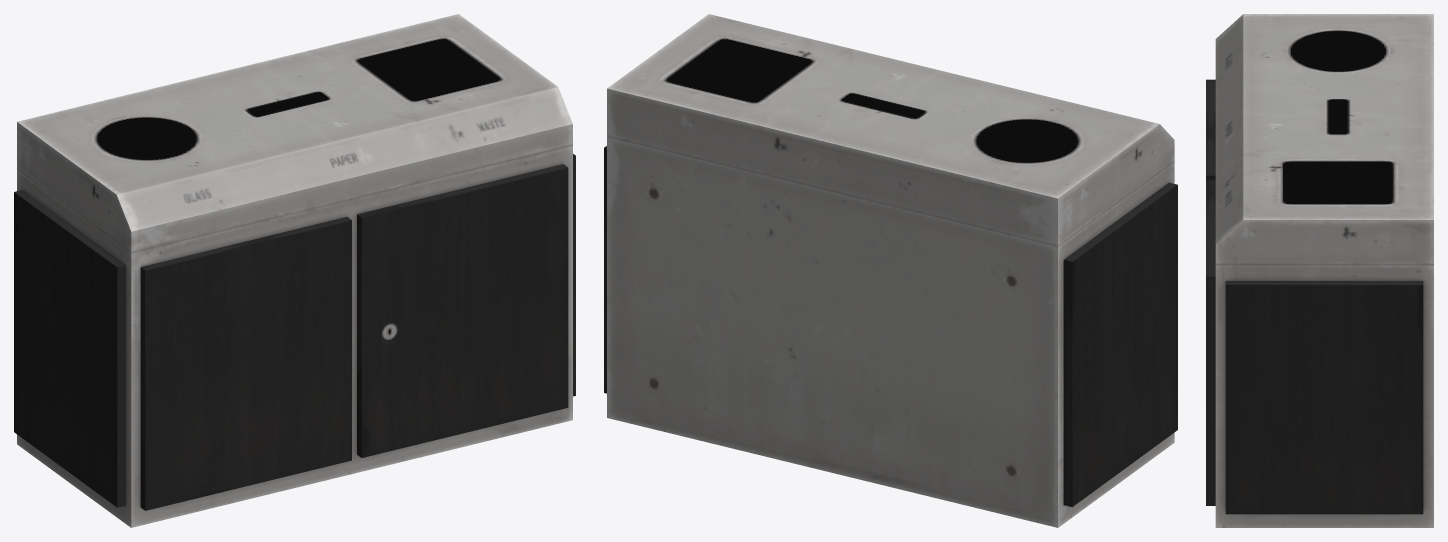
The model's file is SM_BigTrashCan.fbx.
3 renders of one model, left to right at view 1: azimuth 30°, elevation 25°; view 2: azimuth 150°, elevation 25°; view 3: azimuth 270°, elevation 25°, orthographic. The views are drawn at different scales.
Parts seen in each view (by area): view 1: SM_BigTrashCan_LOD0; view 2: SM_BigTrashCan_LOD0; view 3: SM_BigTrashCan_LOD0.
Boxes of the visible parts, <box> form: SM_BigTrashCan_LOD0: <box>14,14,575,527</box>; SM_BigTrashCan_LOD0: <box>604,14,1177,527</box>; SM_BigTrashCan_LOD0: <box>1206,14,1433,527</box>.
Size of the model in its own units: 114 by 51.29 by 76.59.
